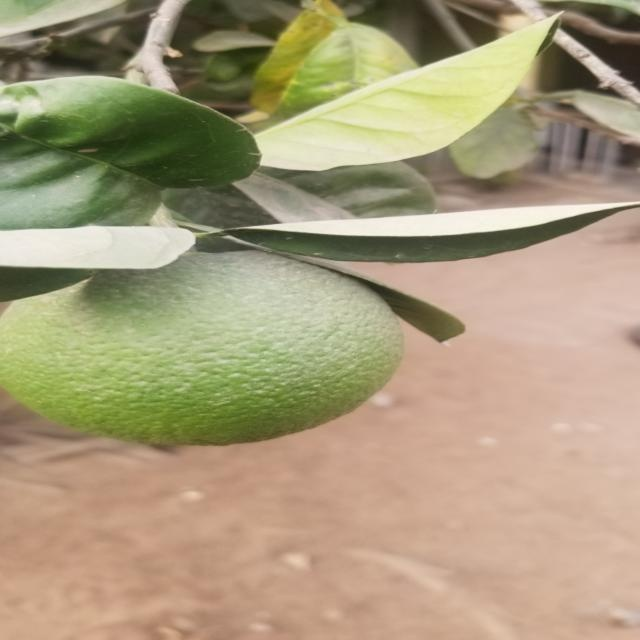agrume: (10, 252, 398, 451)
